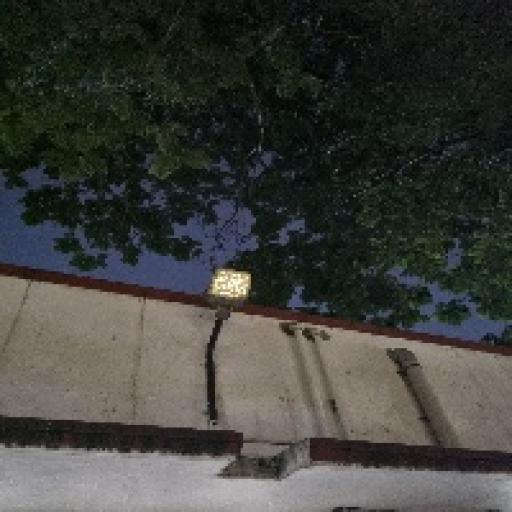Not Working: (201, 262, 258, 315)
